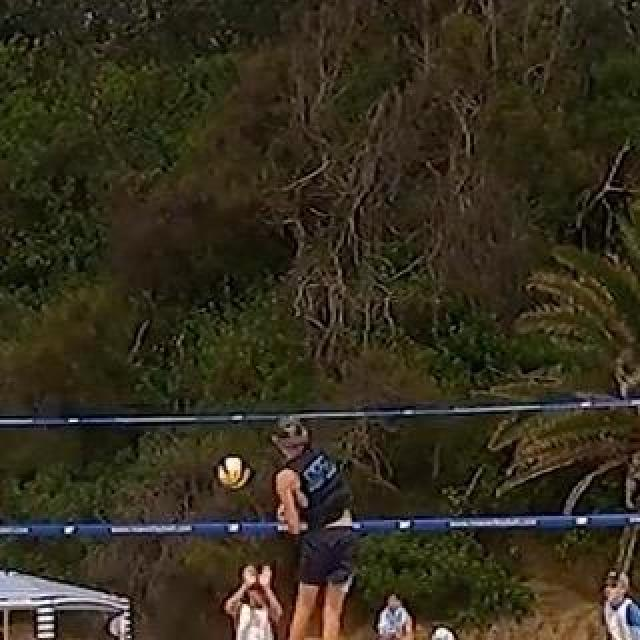volleyball: (219, 458, 251, 490)
